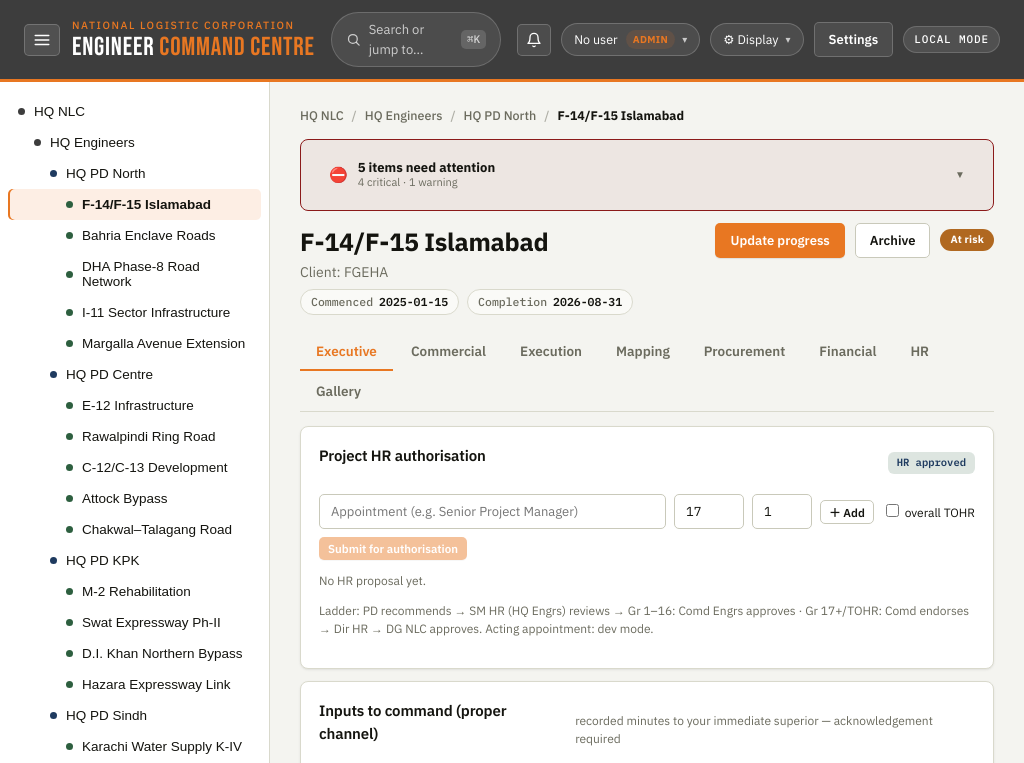
Test: Header command bar › collapses identity into one control — user and acting-role live together
The image size is (1024, 763).
// Only one identity trigger in the header, not two loose selectors.
Click the button with aria-label "Signed-in user and acting role" at (631, 40), box [561,23,700,56]
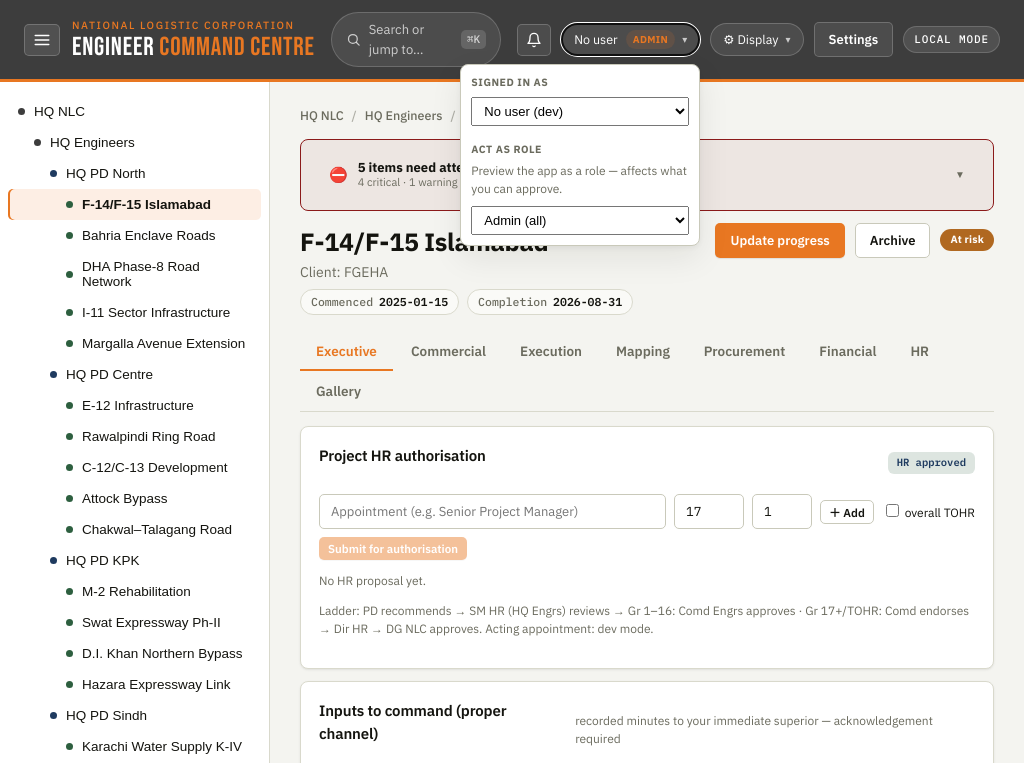
Result: the dropdown named "Switch user" is shown at [471,97,689,126]
Result: the dropdown named "Switch acting role" is shown at [471,206,689,234]
